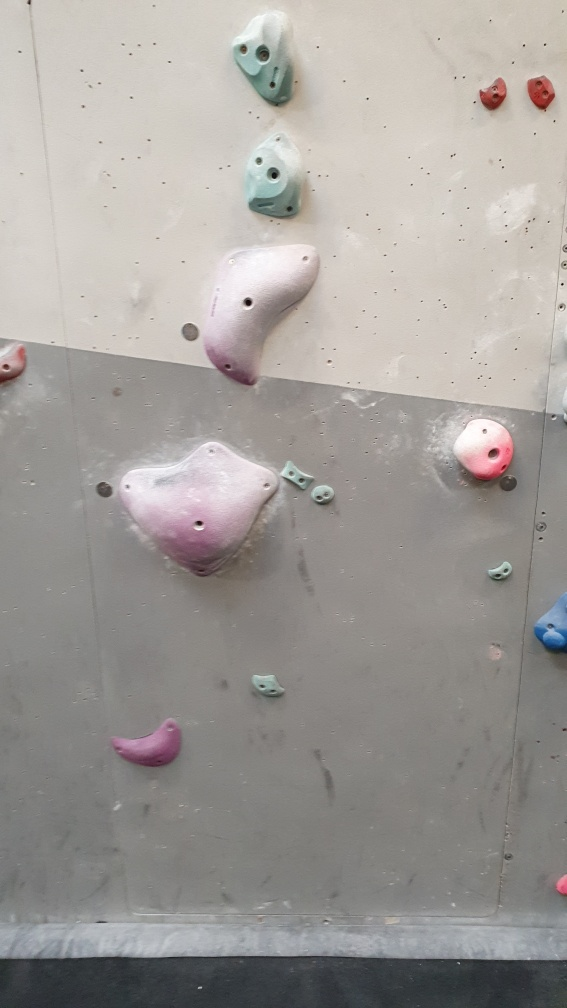Hand Start: (497, 470, 526, 495), (179, 321, 204, 347), (96, 478, 121, 500)
Jug: (240, 121, 315, 221), (228, 12, 302, 111)
Pinch: (527, 64, 559, 117), (275, 459, 318, 495), (487, 555, 518, 591)
Sloper: (534, 589, 567, 653)
